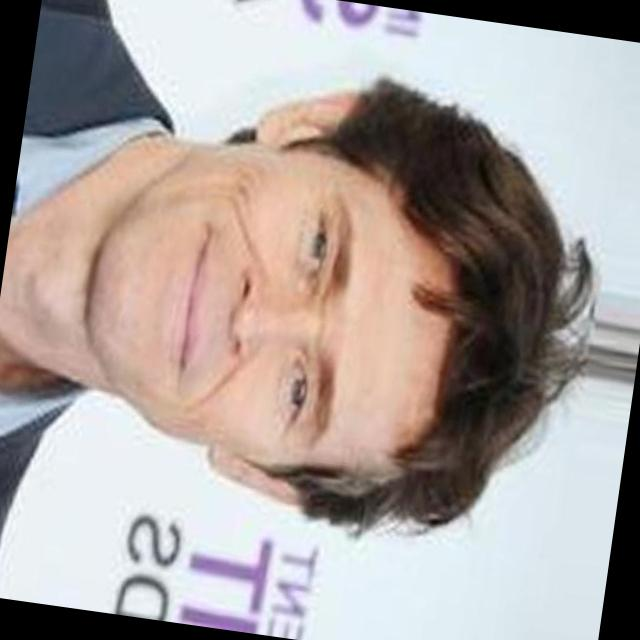bareface: (98, 43, 605, 556)
